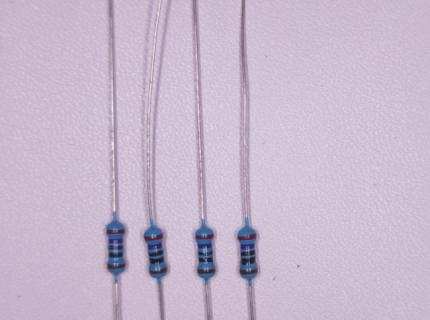Black band: (241, 256, 256, 265), (150, 256, 164, 264), (109, 251, 124, 258), (148, 250, 163, 257), (241, 249, 255, 256), (198, 250, 213, 256), (199, 257, 213, 263), (108, 246, 124, 250)
Brown band: (149, 266, 168, 274), (239, 268, 258, 275), (107, 263, 126, 269), (197, 268, 216, 274)
Red band: (237, 233, 257, 240), (144, 233, 163, 240), (195, 234, 214, 239), (106, 229, 125, 234)
Violet band: (148, 243, 162, 250), (109, 238, 123, 244), (198, 243, 212, 249), (241, 243, 255, 249)
